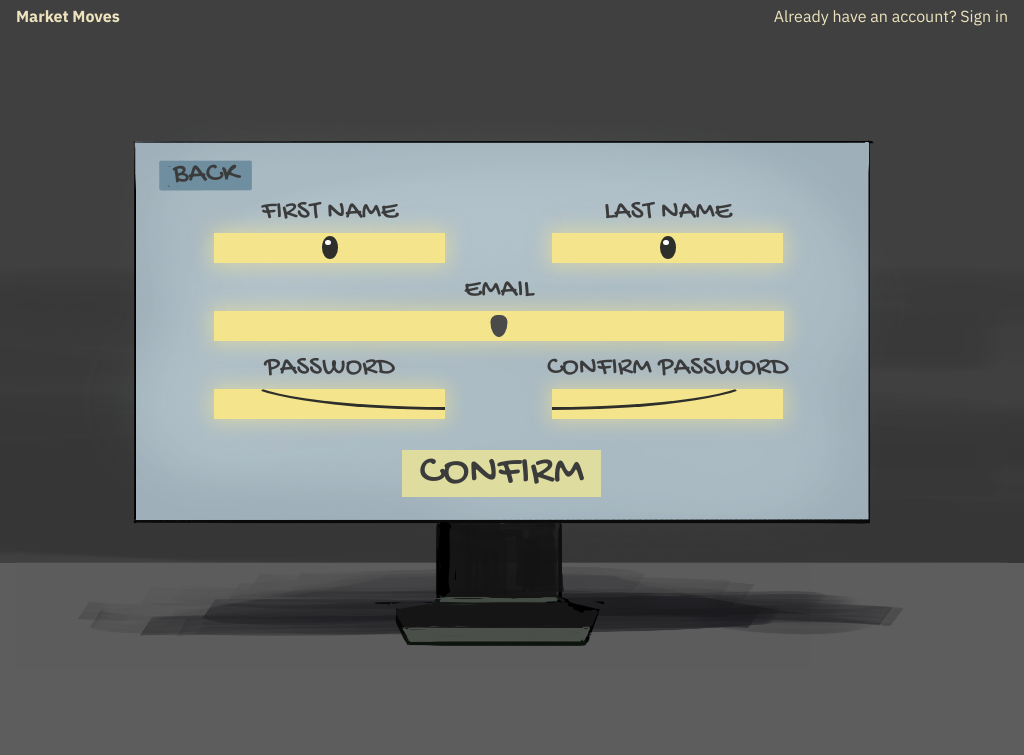
sign-up page › creates the account with the fields the backend expects, then asks to sign in
The image size is (1024, 755).
Type "Maya" into the field labelled "FIRST NAME" at point(330, 248), box [214, 233, 445, 263]
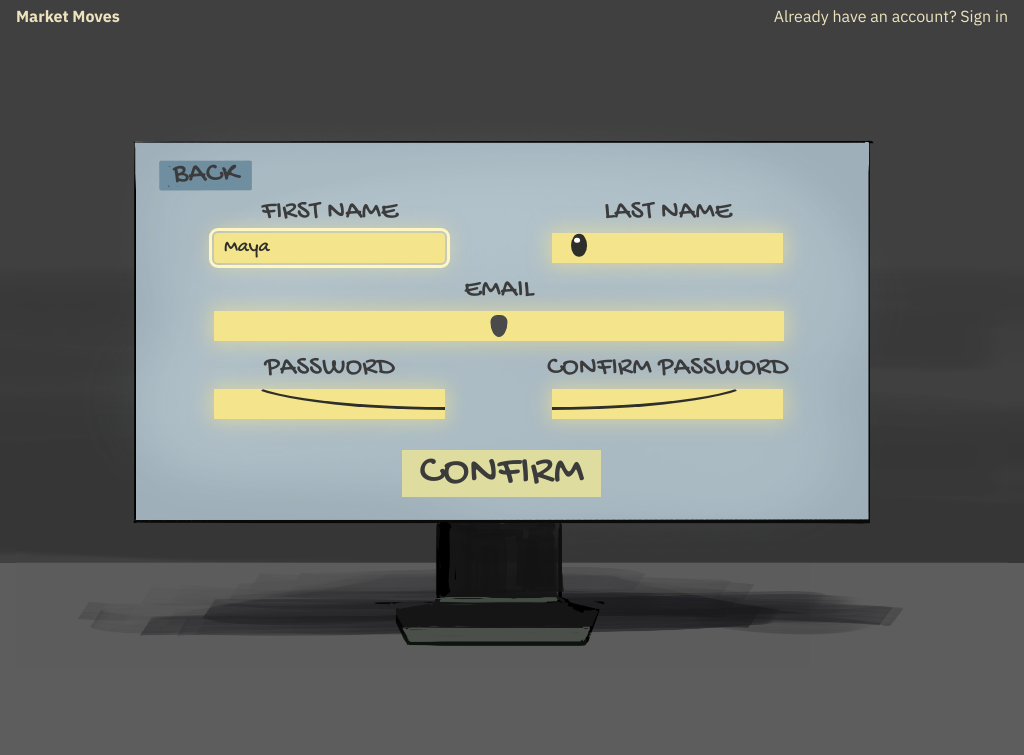
Type "Lopez" into the field labelled "LAST NAME" at point(668, 248), box [552, 233, 783, 263]
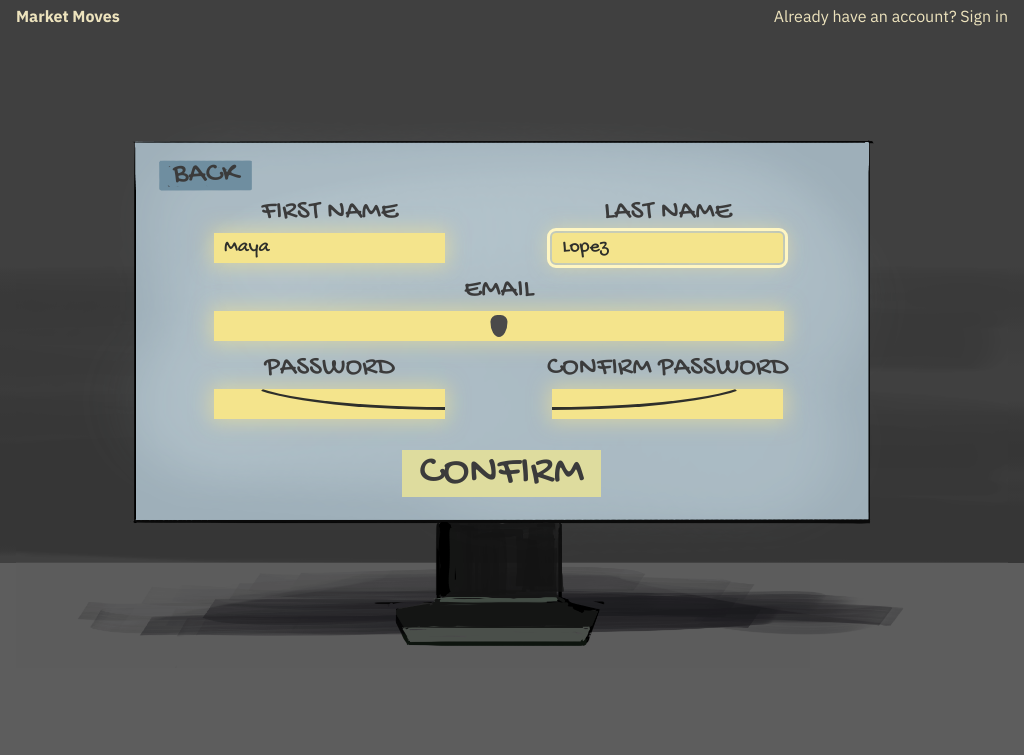
Type "maya@example.com" into the field labelled "EMAIL" at point(499, 326), box [214, 311, 784, 341]
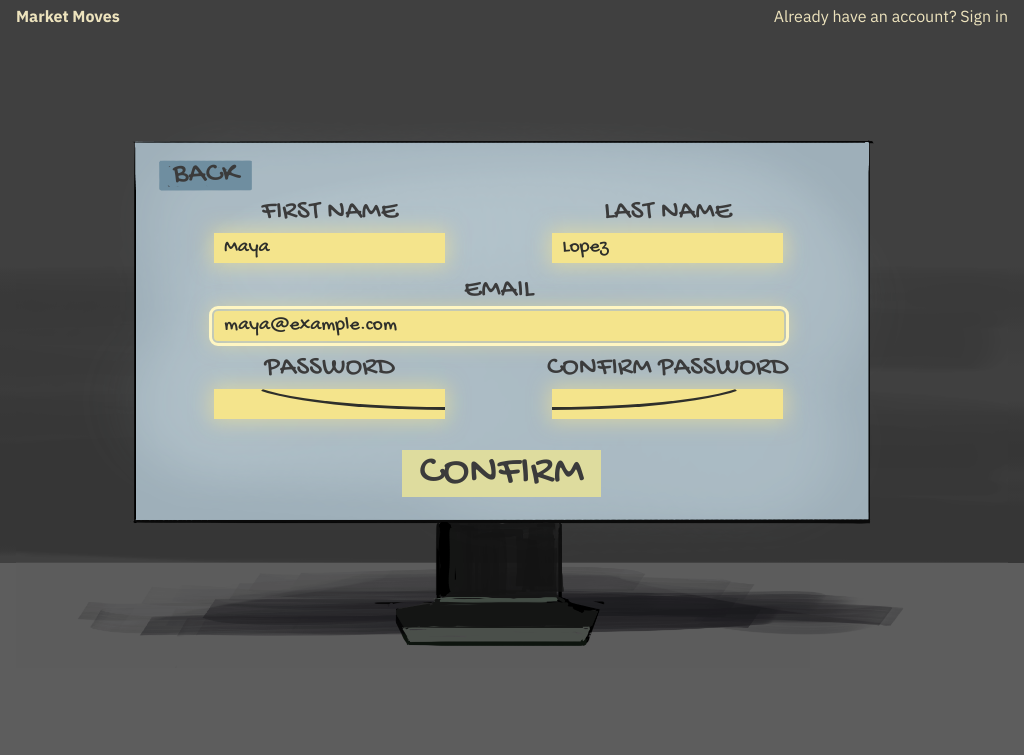
Type "correct horse" into the password field labelled "PASSWORD" at point(330, 404), box [214, 389, 445, 419]
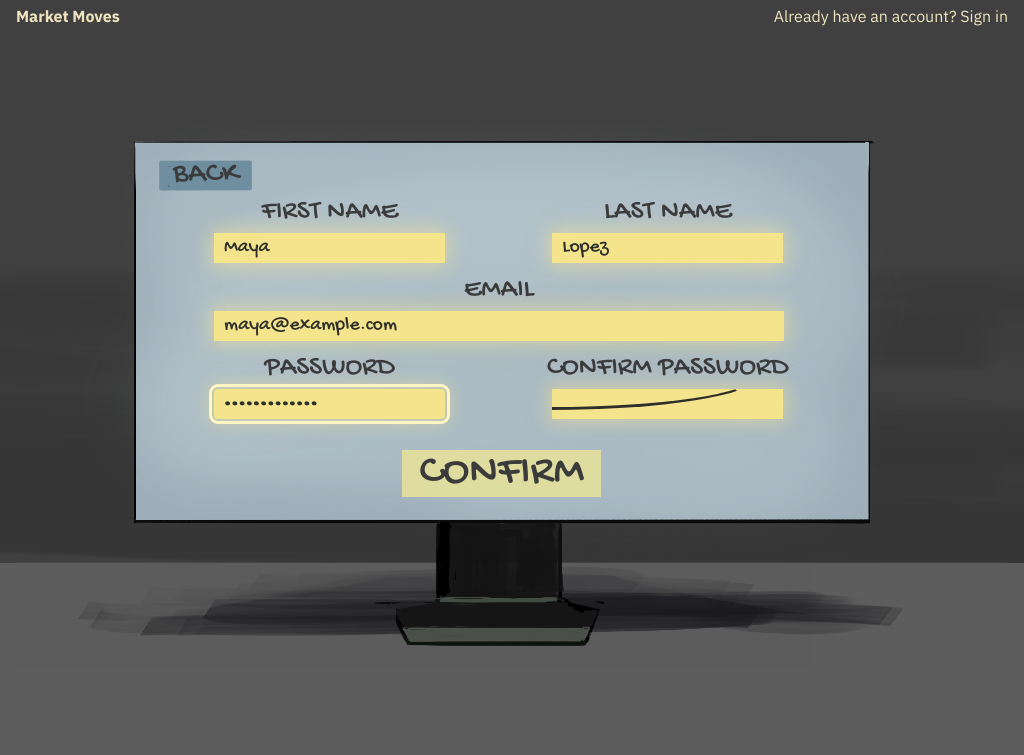
Type "correct horse" into the password field labelled "CONFIRM PASSWORD" at point(668, 404), box [552, 389, 783, 419]
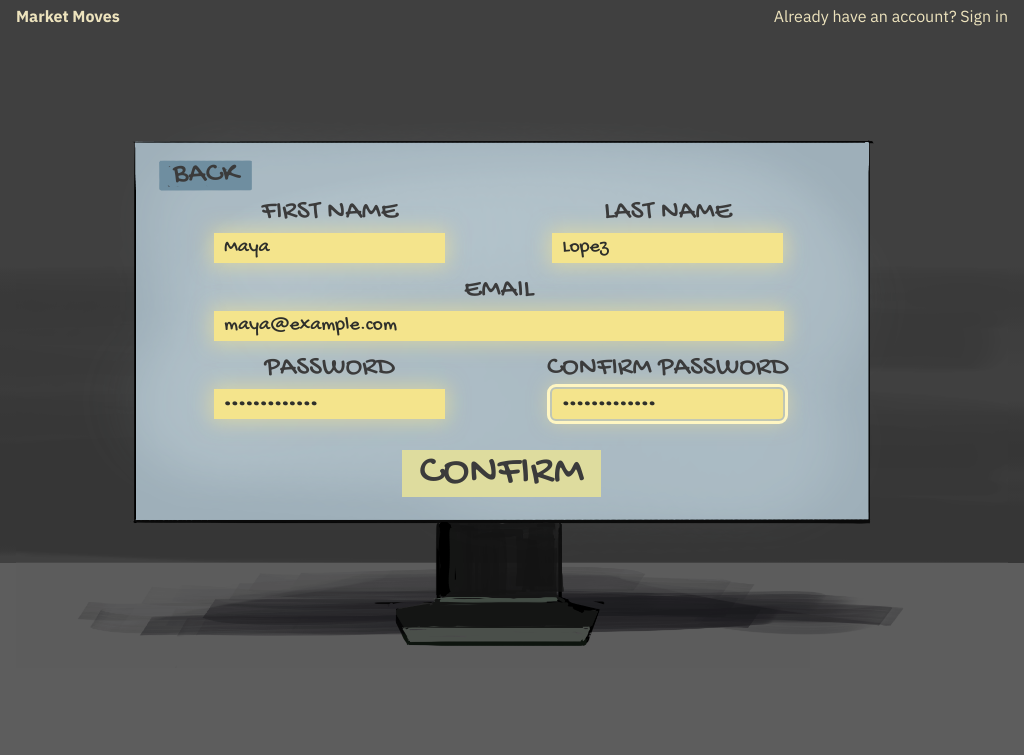
Click the button "CONFIRM" at point(502, 474), box [402, 450, 601, 497]
(page scrolled)
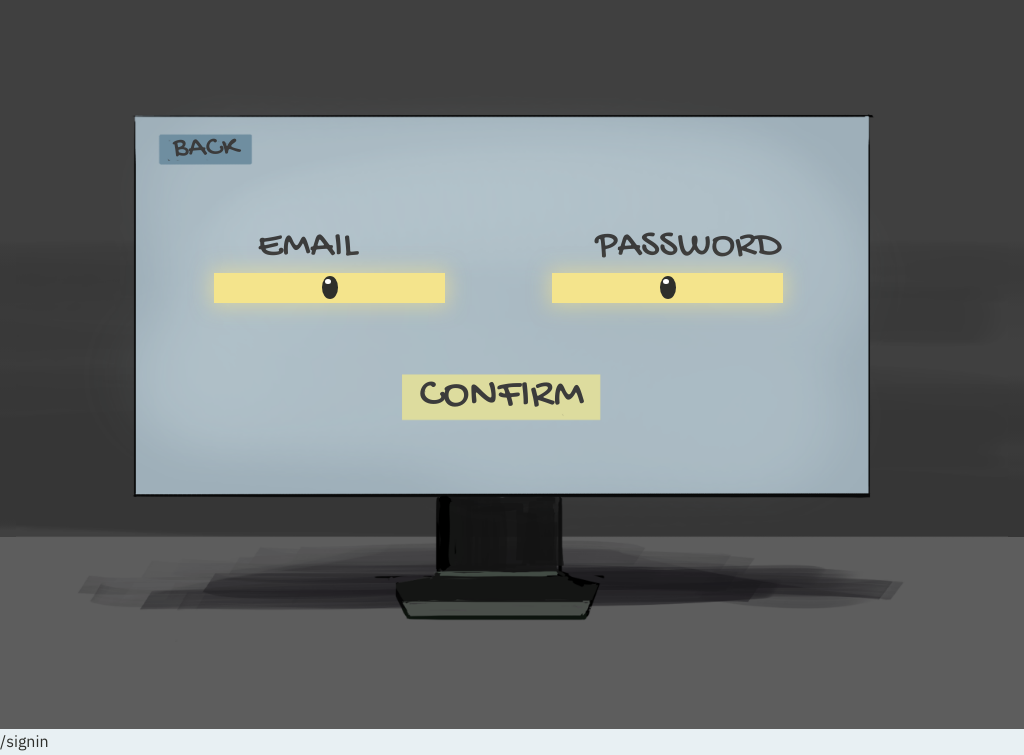
Check: the text with test id "location" reads "/signin", box [0, 731, 48, 751]
Check: the label labelled "CONFIRM PASSWORD" is gone
